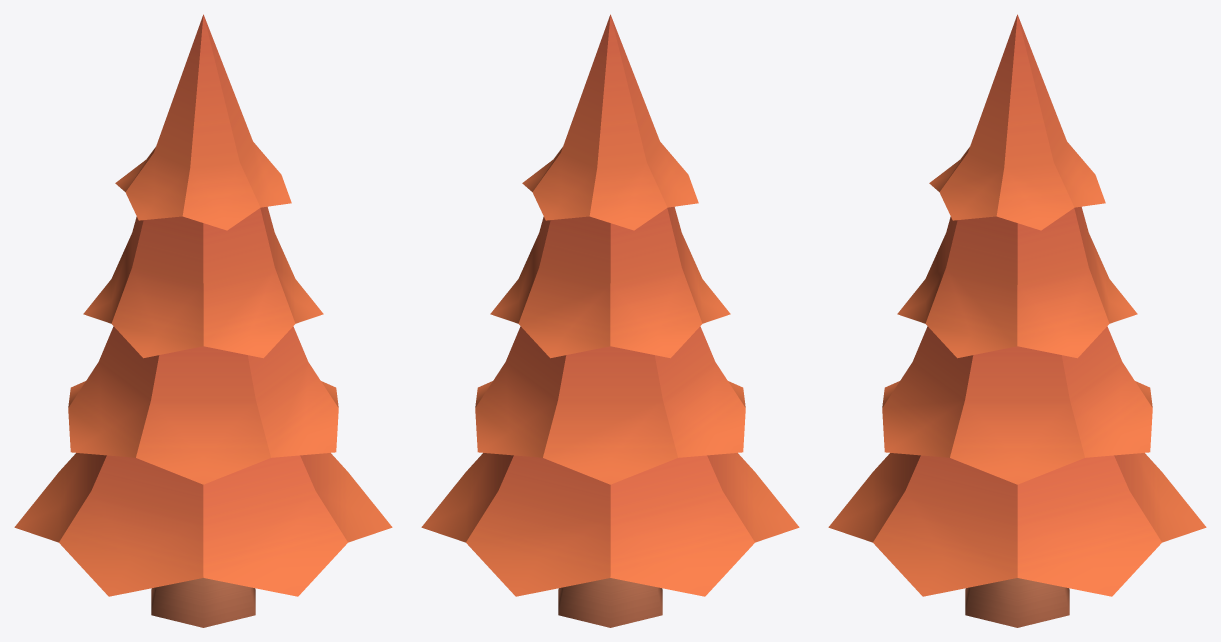
File: pine-fall.glb
The picture shows the model from 3 angles, left to right: view 1: azimuth 30°, elevation 25°; view 2: azimuth 150°, elevation 25°; view 3: azimuth 270°, elevation 25°; orthographic projection.
Visible parts, largest first — view 1: Asset3DLoader.sceneRoot; view 2: Asset3DLoader.sceneRoot; view 3: Asset3DLoader.sceneRoot.
Boxes of the visible parts, box(x1,y1,x2,y2) form: Asset3DLoader.sceneRoot: box(14, 14, 392, 627); Asset3DLoader.sceneRoot: box(421, 14, 799, 627); Asset3DLoader.sceneRoot: box(828, 14, 1206, 627).
Bounding box in the file's own units: 1.18 × 2.29 × 1.33.
Materials: 1 (1 with a texture image).
